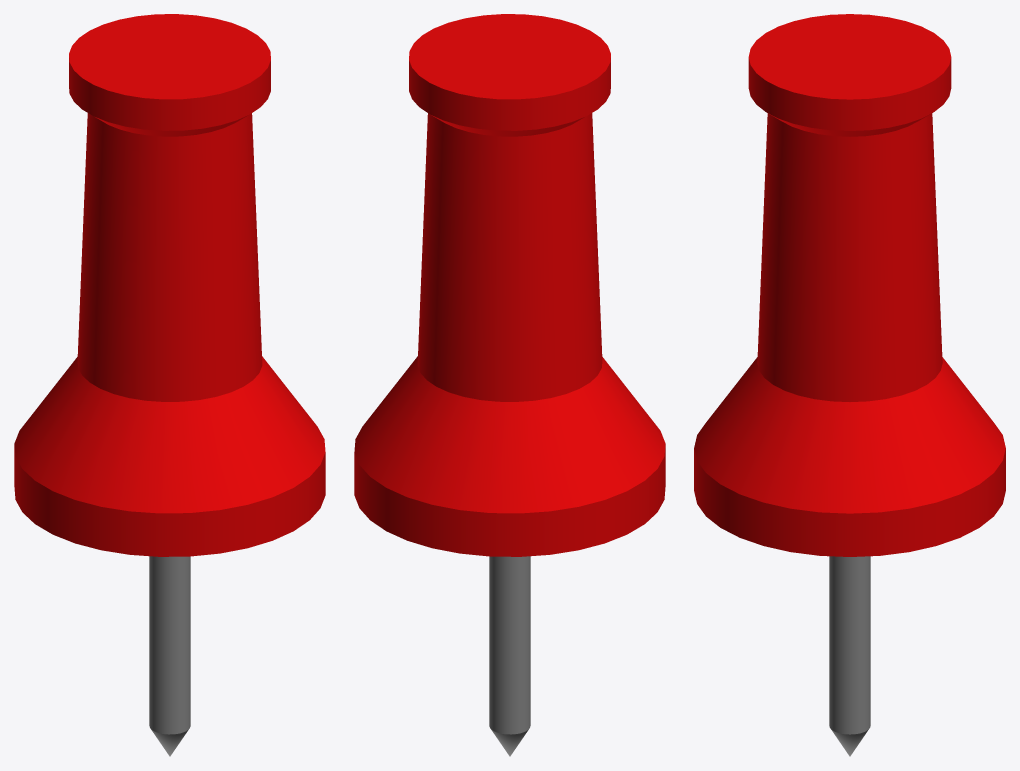
File: Thumbtack.fbx
3 views of the same model, side by side, from view 1: azimuth 30°, elevation 25°; view 2: azimuth 150°, elevation 25°; view 3: azimuth 270°, elevation 25° (orthographic).
Visible parts, largest first — view 1: Cylinder; view 2: Cylinder; view 3: Cylinder.
Part boxes in pixels (x1,y1,x2,y2): Cylinder: (14,14,325,756); Cylinder: (354,14,665,756); Cylinder: (694,14,1005,756).
Bounding box in the file's own units: 212 × 526 × 212.
